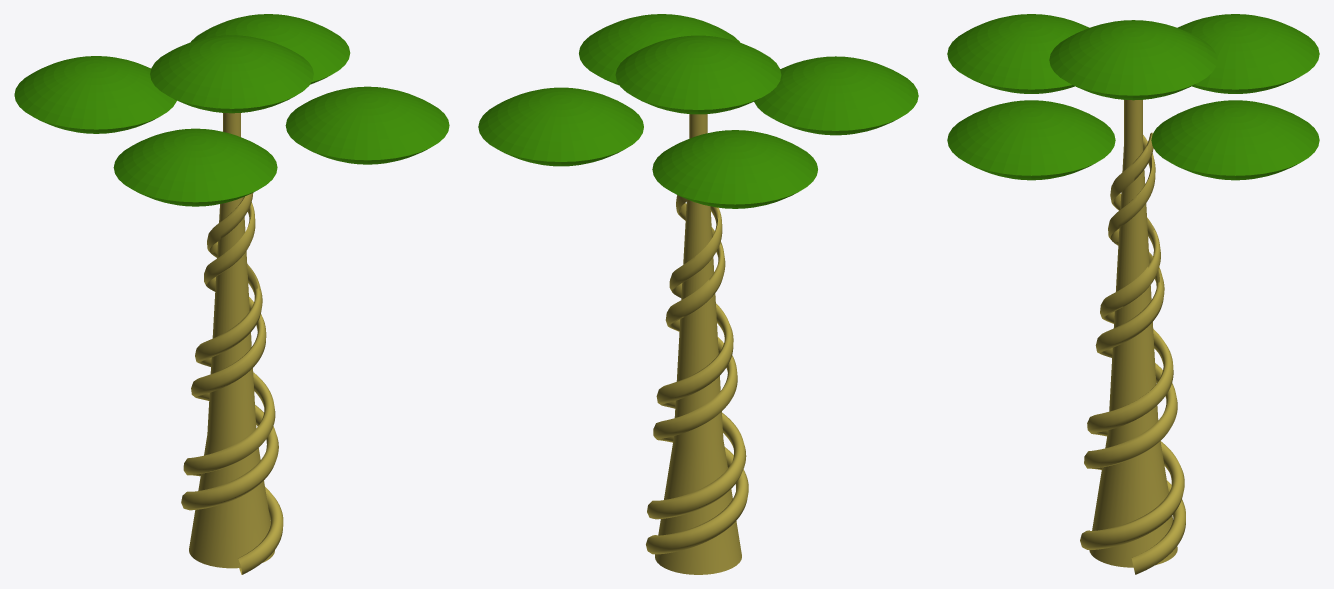
Rendered from DK's Jungle Parkway Tree 4.dae.
3 views of the same model, side by side, from view 1: azimuth 30°, elevation 25°; view 2: azimuth 150°, elevation 25°; view 3: azimuth 270°, elevation 25° (orthographic). The views are drawn at different scales.
Visible parts, largest first — view 1: Leaves, Tree, Vines; view 2: Leaves, Tree, Vines; view 3: Leaves, Tree, Vines.
Boxes of the visible parts, <box> form: Leaves: <box>14,14,449,206</box>; Tree: <box>189,113,274,568</box>; Vines: <box>181,193,283,574</box>; Leaves: <box>478,14,918,208</box>; Tree: <box>655,114,741,574</box>; Vines: <box>646,195,748,554</box>; Leaves: <box>947,14,1319,180</box>; Tree: <box>1089,100,1177,567</box>; Vines: <box>1080,132,1185,574</box>.
Bounding box in the file's own units: 76.65 × 119 × 76.65.
2 materials, 2 textured.
